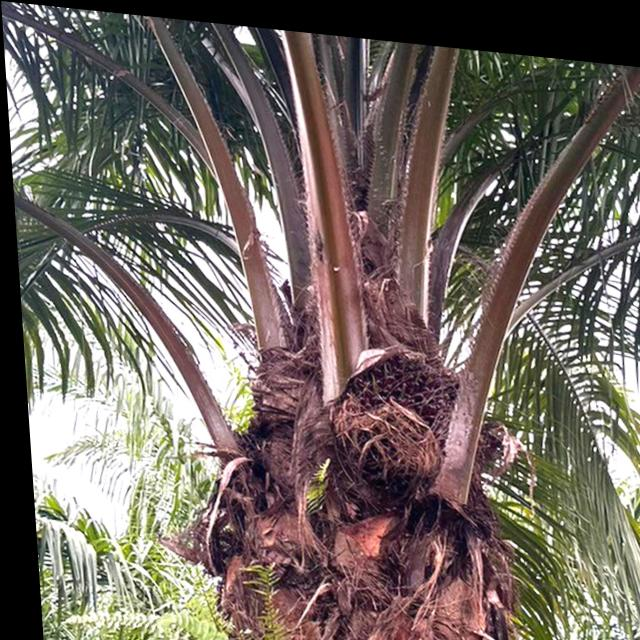ripe: (333, 329, 482, 487)
